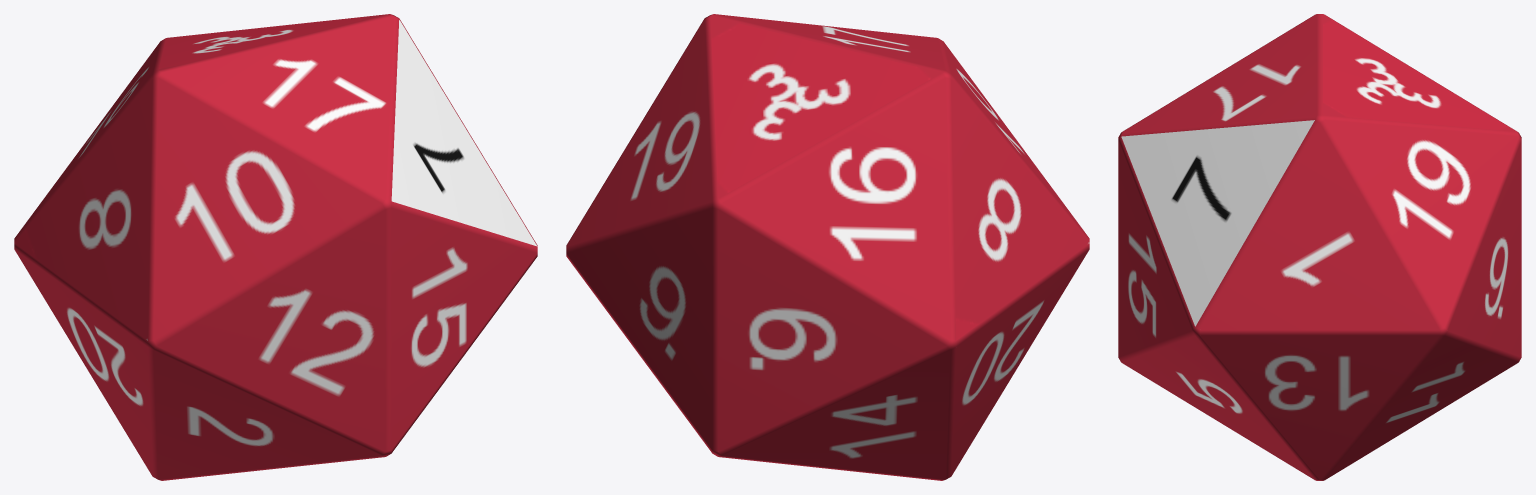
The picture shows the model from 3 angles, left to right: view 1: azimuth 30°, elevation 25°; view 2: azimuth 150°, elevation 25°; view 3: azimuth 270°, elevation 25°; orthographic projection. The views are drawn at different scales.
Visible parts, largest first — view 1: Mesh_0; view 2: Mesh_0; view 3: Mesh_0.
Part boxes in pixels (x1,y1,x2,y2): Mesh_0: (14,14,537,480); Mesh_0: (566,14,1089,480); Mesh_0: (1118,14,1521,480).
Size of the model in its own units: 169 by 169 by 169.
Materials: 1 (1 with a texture image).
